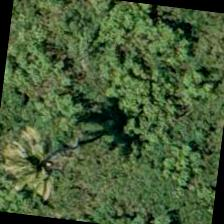Kelapa_Sawit: (0, 131, 81, 220)
